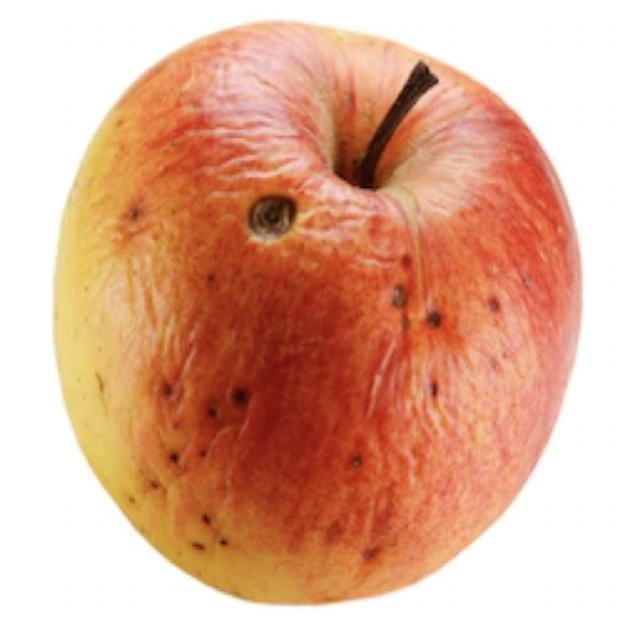Rotten: (75, 30, 577, 613)
